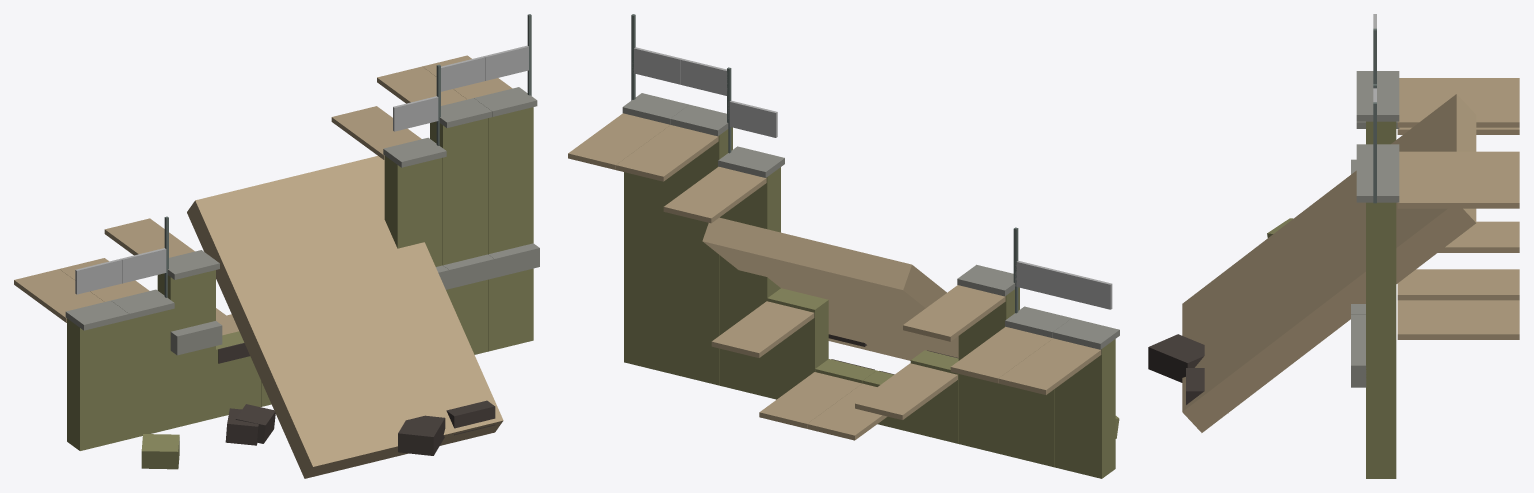
Rendered from SM_MuroRampa_v4_Escalonado_e3_Brecha_LOD1.fbx.
3 renders of one model, left to right at view 1: azimuth 30°, elevation 25°; view 2: azimuth 150°, elevation 25°; view 3: azimuth 270°, elevation 25°, orthographic. The views are drawn at different scales.
Parts seen in each view (by area): view 1: SM_muro_rampa_v19_LOD1; view 2: SM_muro_rampa_v19_LOD1; view 3: SM_muro_rampa_v19_LOD1.
Part boxes in pixels (x1,y1,x2,y2): SM_muro_rampa_v19_LOD1: (14,14,539,478); SM_muro_rampa_v19_LOD1: (568,14,1119,478); SM_muro_rampa_v19_LOD1: (1148,14,1519,478).
Bounding box in the file's own units: 10.03 × 7.09 × 6.09.
